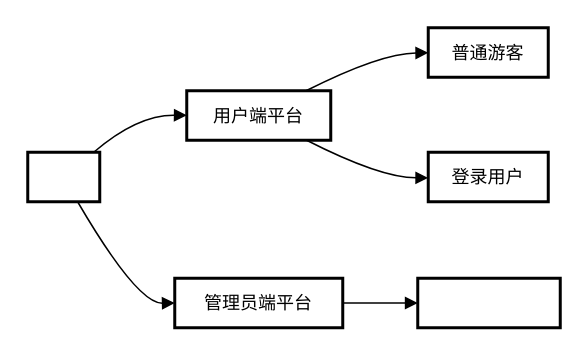
This 587x354 diagram has some shape labels left out. Here are the shapes that lost their labels. From the top down, the centre of each, then its label:
At point (63, 176): "平台".
At point (488, 302): "普通管理员".
